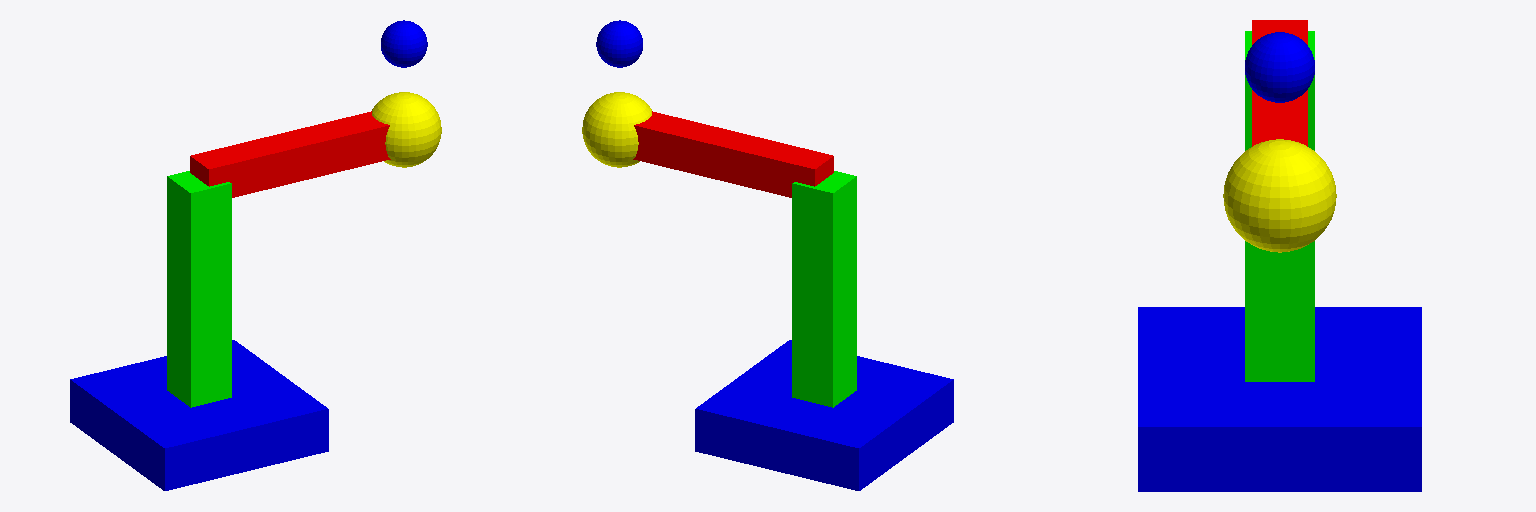
The robot description file, URDF, robot "urdf_12_joint_limits":
<?xml version="1.0"?>
<!-- URDF 1.2 sample: extended joint limits add acceleration, deceleration, and jerk. -->
<robot name="urdf_12_joint_limits" version="1.2">
  <material name="blue">
    <color rgba="0.0 0.0 1.0 1.0"/>
  </material>
  <material name="green">
    <color rgba="0.0 1.0 0.0 1.0"/>
  </material>
  <material name="red">
    <color rgba="1.0 0.0 0.0 1.0"/>
  </material>
  <material name="yellow">
    <color rgba="1.0 1.0 0.0 1.0"/>
  </material>

  <link name="base_link">
    <visual>
      <origin xyz="0 0 0.05"/>
      <geometry>
        <box size="0.4 0.4 0.1"/>
      </geometry>
      <material name="blue"/>
    </visual>
    <collision name="base_collision">
      <origin xyz="0 0 0.05"/>
      <geometry>
        <box size="0.4 0.4 0.1"/>
      </geometry>
    </collision>
  </link>

  <link name="revolute_link">
    <visual>
      <origin xyz="0 0 0.25"/>
      <geometry>
        <box size="0.1 0.1 0.5"/>
      </geometry>
      <material name="green"/>
    </visual>
    <collision name="revolute_collision">
      <origin xyz="0 0 0.25"/>
      <geometry>
        <box size="0.1 0.1 0.5"/>
      </geometry>
    </collision>
  </link>

  <link name="prismatic_link">
    <visual>
      <origin xyz="0.25 0 0"/>
      <geometry>
        <box size="0.5 0.08 0.08"/>
      </geometry>
      <material name="red"/>
    </visual>
    <collision name="prismatic_collision">
      <origin xyz="0.25 0 0"/>
      <geometry>
        <box size="0.5 0.08 0.08"/>
      </geometry>
    </collision>
  </link>

  <link name="continuous_link">
    <visual>
      <geometry>
        <sphere radius="0.08"/>
      </geometry>
      <material name="yellow"/>
    </visual>
    <collision name="continuous_collision">
      <geometry>
        <sphere radius="0.08"/>
      </geometry>
    </collision>
  </link>

  <link name="infinite_velocity_link">
    <visual>
      <geometry>
        <sphere radius="0.05"/>
      </geometry>
      <material name="blue"/>
    </visual>
    <collision name="infinite_velocity_collision">
      <geometry>
        <sphere radius="0.05"/>
      </geometry>
    </collision>
  </link>

  <!-- Angular limits use radians, radians/s, radians/s^2, and radians/s^3. -->
  <joint name="revolute_joint" type="revolute">
    <parent link="base_link"/>
    <child link="revolute_link"/>
    <origin xyz="0 0 0.1"/>
    <axis xyz="0 1 0"/>
    <limit
      lower="-1.57"
      upper="1.57"
      effort="100.0"
      velocity="1.0"
      acceleration="10.0"
      deceleration="5.0"
      jerk="200.0"/>
  </joint>

  <!-- Linear limits use meters, meters/s, meters/s^2, and meters/s^3. -->
  <joint name="prismatic_joint" type="prismatic">
    <parent link="revolute_link"/>
    <child link="prismatic_link"/>
    <origin xyz="0 0 0.5"/>
    <axis xyz="1 0 0"/>
    <limit
      lower="0.0"
      upper="0.4"
      effort="50.0"
      velocity="0.5"
      acceleration="2.0"
      deceleration="1.5"
      jerk="20.0"/>
  </joint>

  <!-- Only acceleration is specified. Omitted effort, deceleration, and jerk are not authored. -->
  <joint name="continuous_joint" type="continuous">
    <parent link="prismatic_link"/>
    <child link="continuous_link"/>
    <origin xyz="0.5 0 0"/>
    <axis xyz="0 0 1"/>
    <limit acceleration="3.0"/>
  </joint>

  <!-- An explicit infinite velocity is left unlimited. -->
  <joint name="infinite_velocity_joint" type="continuous">
    <parent link="continuous_link"/>
    <child link="infinite_velocity_link"/>
    <origin xyz="0 0 0.2"/>
    <axis xyz="0 0 1"/>
    <limit velocity="INF"/>
  </joint>
</robot>

--- What the picture shows (computed from the rendered views, not written in the file) ---
Views: 3 orthographic renders of the robot side by side, from view 1: azimuth 30°, elevation 25°; view 2: azimuth 150°, elevation 25°; view 3: azimuth 270°, elevation 25°.
Robot: urdf_12_joint_limits — 5 links, 4 joints (1 revolute, 2 continuous, 1 prismatic); root link base_link; default pose: every joint at zero.
Links seen in each view (by area): view 1: base_link, revolute_link, prismatic_link, continuous_link, infinite_velocity_link; view 2: base_link, revolute_link, prismatic_link, continuous_link, infinite_velocity_link; view 3: base_link, revolute_link, continuous_link, infinite_velocity_link, prismatic_link.
Boxes of the visible links, box(x1,y1,x2,y2) form: base_link: box(70, 340, 328, 490); revolute_link: box(167, 171, 231, 407); prismatic_link: box(190, 111, 390, 197); continuous_link: box(372, 92, 441, 167); infinite_velocity_link: box(381, 20, 427, 67); base_link: box(695, 340, 953, 490); revolute_link: box(792, 171, 856, 407); prismatic_link: box(633, 111, 833, 197); continuous_link: box(582, 92, 651, 167); infinite_velocity_link: box(596, 20, 642, 67); base_link: box(1138, 307, 1421, 491); revolute_link: box(1245, 31, 1314, 381); continuous_link: box(1223, 139, 1336, 252); infinite_velocity_link: box(1245, 32, 1314, 102); prismatic_link: box(1252, 20, 1307, 146).
Bounding box of the posed robot: 0.78 × 0.4 × 0.85 m (x, y, z).
Geometry: primitives only (box / cylinder / sphere), no mesh files.
